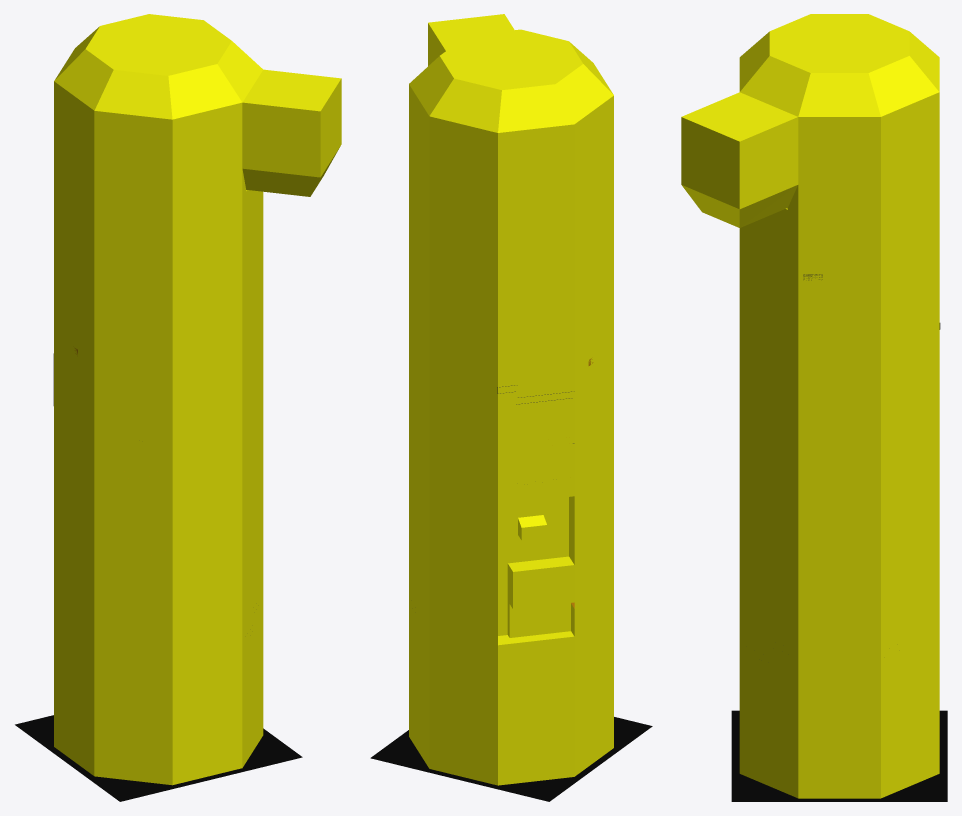
Rendered from ttc_segment7.0x12330.collision.obj.
3 renders of one model, left to right at view 1: azimuth 30°, elevation 25°; view 2: azimuth 150°, elevation 25°; view 3: azimuth 270°, elevation 25°, orthographic. The views are drawn at different scales.
Visible parts, largest first — view 1: ttc_segment7_12330_normal, ttc_segment7_12330_deathfloor; view 2: ttc_segment7_12330_normal, ttc_segment7_12330_deathfloor; view 3: ttc_segment7_12330_normal, ttc_segment7_12330_deathfloor.
Part boxes in pixels (left/top/right/bottom): ttc_segment7_12330_normal: left=54, top=14, right=341, bottom=785; ttc_segment7_12330_deathfloor: left=15, top=715, right=302, bottom=801; ttc_segment7_12330_normal: left=409, top=14, right=613, bottom=785; ttc_segment7_12330_deathfloor: left=370, top=717, right=652, bottom=801; ttc_segment7_12330_normal: left=681, top=14, right=939, bottom=798; ttc_segment7_12330_deathfloor: left=731, top=710, right=947, bottom=801.
Bounding box in the file's own units: 5.42 × 16 × 5.42.
